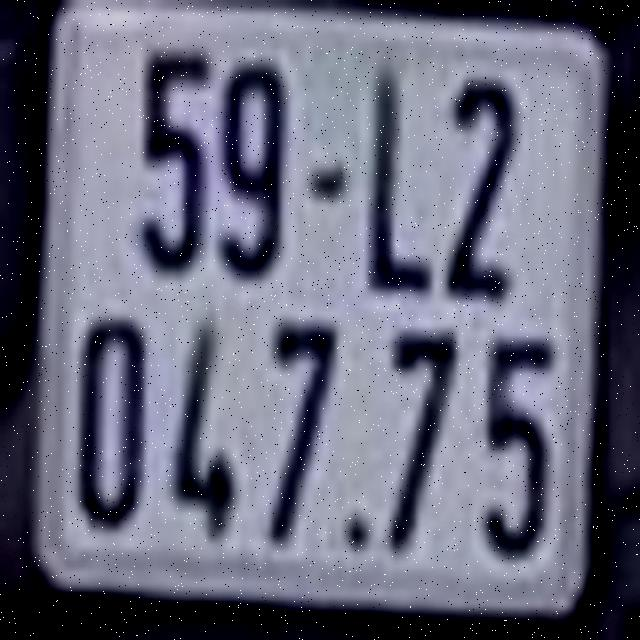0: (75, 315, 147, 528)
2: (447, 76, 514, 300)
4: (173, 321, 239, 540)
5: (484, 337, 554, 558), (140, 49, 208, 272)
7: (268, 320, 338, 544), (388, 328, 457, 552)
9: (220, 60, 284, 279)
L: (364, 69, 435, 296)
